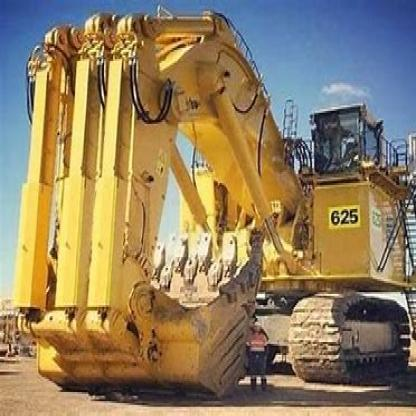excavator: (11, 13, 410, 410)
